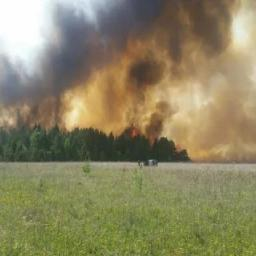Heavy smoke: (0, 0, 255, 162)
